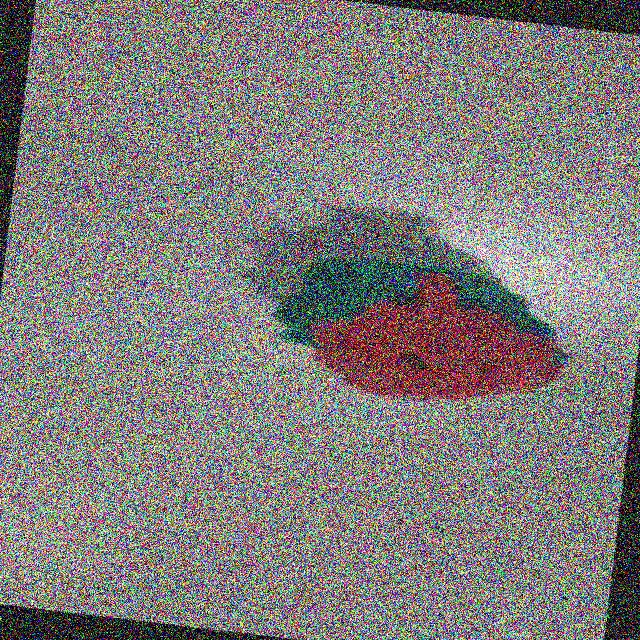House: (264, 241, 571, 426)
